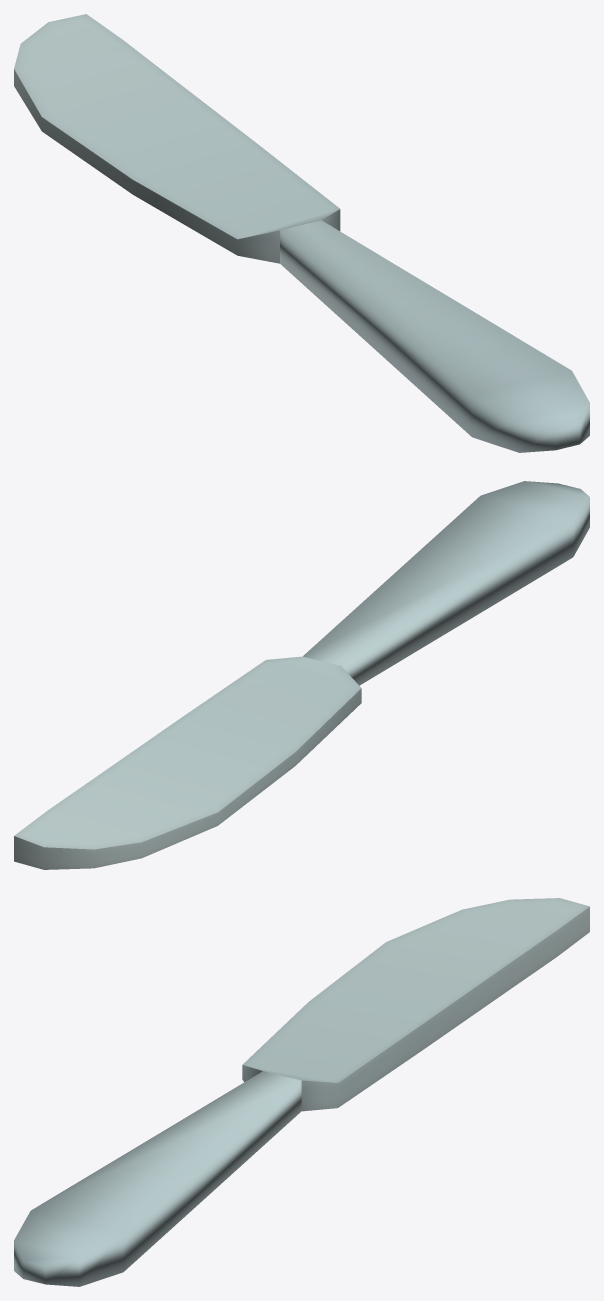
Rendered from knife_01.fbx.
3 renders of one model, top to bottom at view 1: azimuth 30°, elevation 25°; view 2: azimuth 150°, elevation 25°; view 3: azimuth 330°, elevation 25°, orthographic. The views are drawn at different scales.
Parts seen in each view (by area): view 1: knife_01; view 2: knife_01; view 3: knife_01.
Boxes of the visible parts, x1=… form: knife_01: x1=14, y1=14, x2=589, y2=452; knife_01: x1=14, y1=481, x2=589, y2=869; knife_01: x1=14, y1=898, x2=589, y2=1286.
Size of the model in its own units: 6.57 by 1.99 by 46.56.
